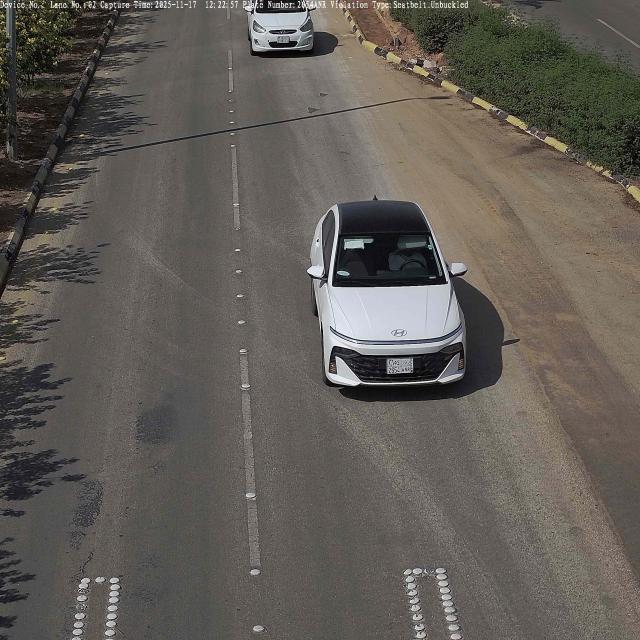person_without_seatbelt: (389, 237, 428, 276)
